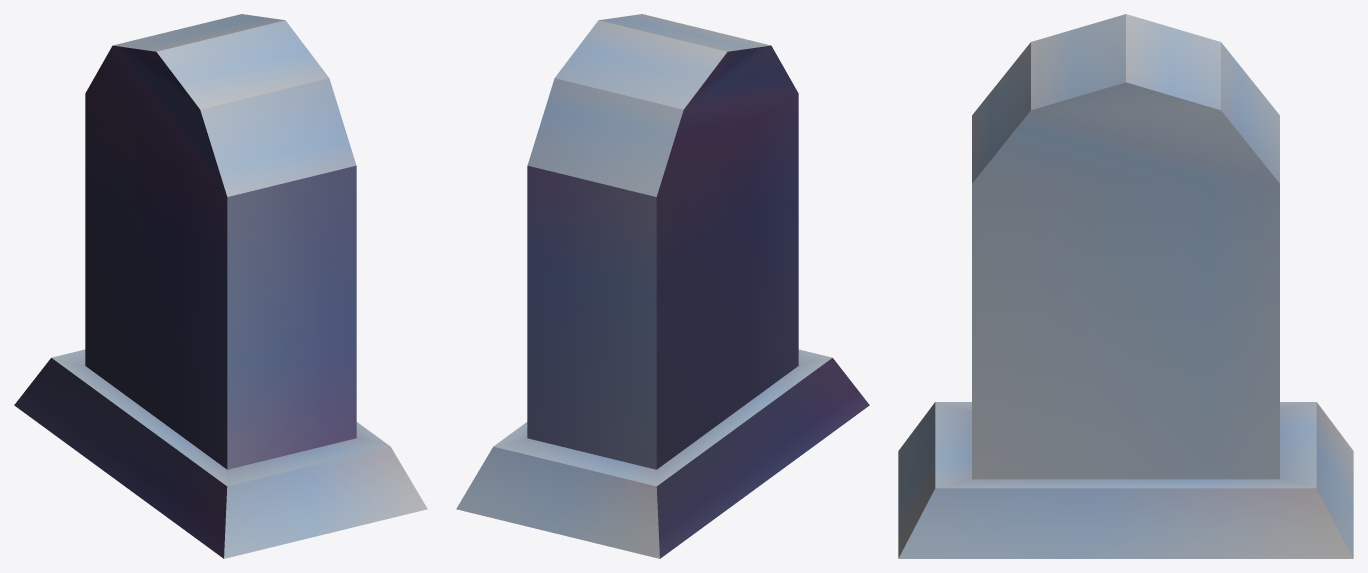
File: tombStone06.fbx
The picture shows the model from 3 angles, left to right: view 1: azimuth 30°, elevation 25°; view 2: azimuth 150°, elevation 25°; view 3: azimuth 270°, elevation 25°; orthographic projection. The views are drawn at different scales.
Parts seen in each view (by area): view 1: tombStone06; view 2: tombStone06; view 3: tombStone06.
Part boxes in pixels (x1=…): tombStone06: x1=14, y1=14, x2=427, y2=558; tombStone06: x1=456, y1=14, x2=869, y2=558; tombStone06: x1=898, y1=14, x2=1353, y2=558.
Size of the model in its own units: 78.9 by 156 by 141.
